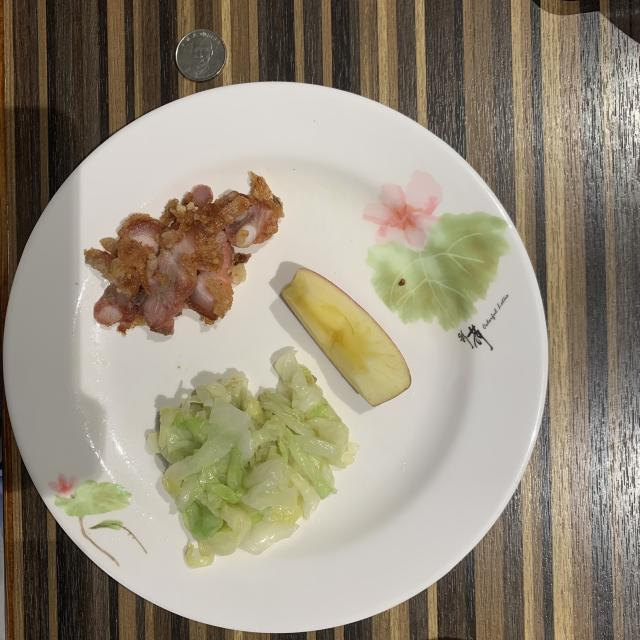apple -sliced-: (281, 269, 411, 406)
cabbage: (155, 351, 356, 568)
coin: (175, 30, 226, 81)
red grilled pork: (85, 172, 284, 335)
